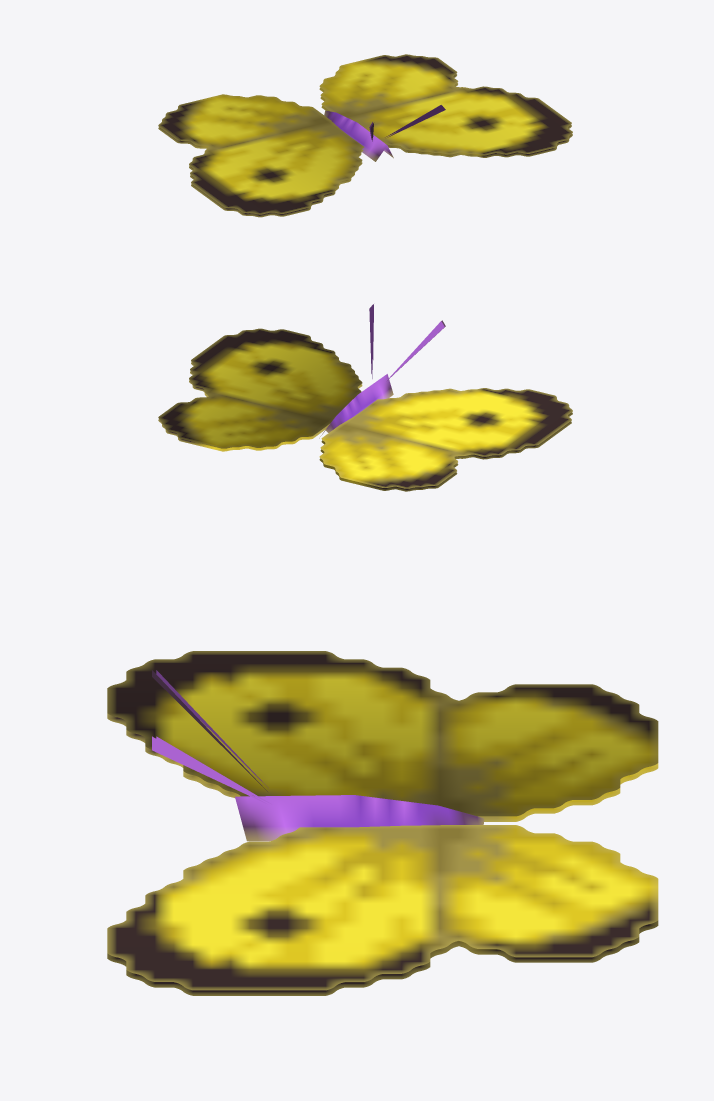
File: ins_monki.obj
The picture shows the model from 3 angles, top to bottom: view 1: azimuth 30°, elevation 25°; view 2: azimuth 150°, elevation 25°; view 3: azimuth 270°, elevation 25°; orthographic projection. The views are drawn at different scales.
Parts seen in each view (by area): view 1: polygon0; view 2: polygon0; view 3: polygon0.
Boxes of the visible parts, x1,y1,x2,y2 form: polygon0: (158,54,572,217); polygon0: (158,304,572,491); polygon0: (107,651,658,995).
Size of the model in its own units: 15.1 by 2.35 by 7.48.
Materials: 2 (2 with a texture image).
